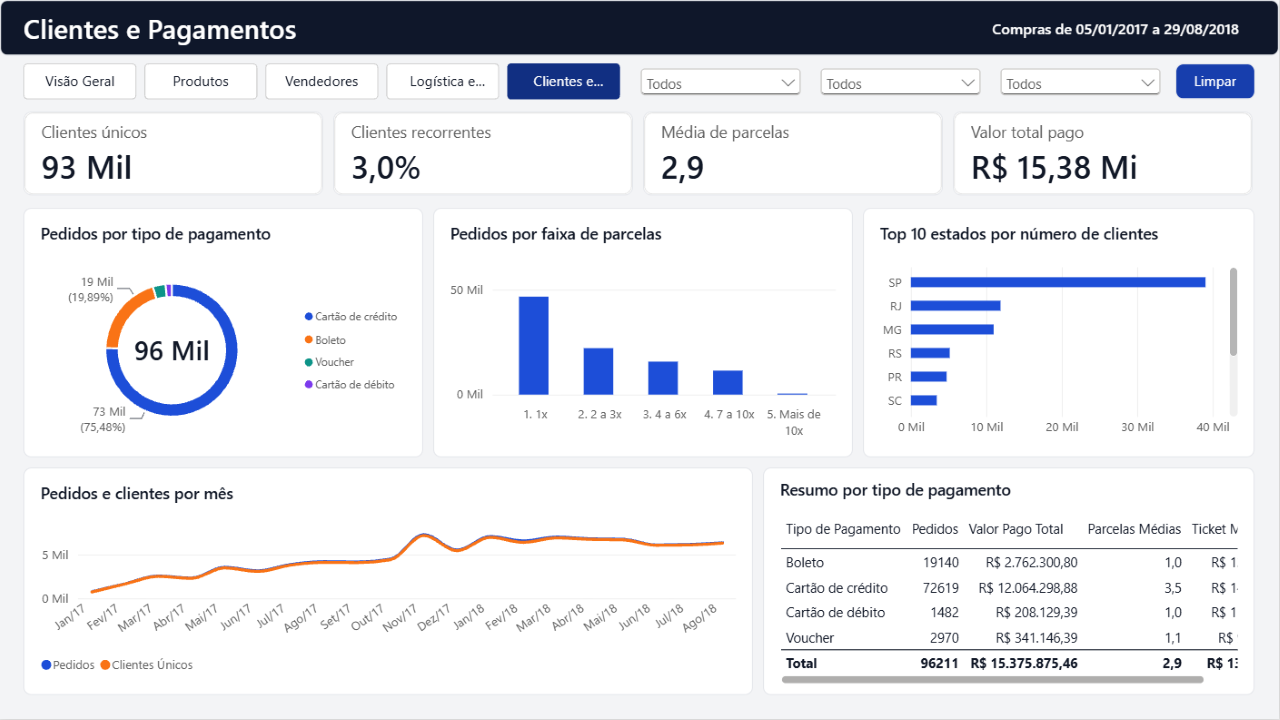

The page's visual inventory and layout, read from the dashboard file:
{"tool":"powerbi","page":{"name":"Clientes e Pagamentos","canvas":[1280,720],"ordinal":4},"visuals":[{"type":"shape","box":[0,0,1280,56],"z":0},{"type":"cardVisual","fields":{"Data":["_Medidas.Clientes Únicos"]},"box":[24,112,300,84],"z":1000},{"type":"cardVisual","fields":{"Data":["_Medidas.% Clientes Recorrentes"]},"box":[334,112,300,84],"z":2000},{"type":"cardVisual","fields":{"Data":["_Medidas.Parcelas Médias"]},"box":[644,112,300,84],"z":3000},{"type":"cardVisual","fields":{"Data":["_Medidas.Valor Pago Total"]},"box":[954,112,300,84],"z":4000},{"type":"donutChart","title":"Pedidos por tipo de pagamento","fields":{"Category":["Fato_Pedidos.Tipo de Pagamento"],"Y":["_Medidas.Pedidos"]},"box":[24,208,400,250],"z":5000},{"type":"clusteredColumnChart","title":"Pedidos por faixa de parcelas","fields":{"Category":["Fato_Pedidos.Faixa de Parcelas"],"Y":["_Medidas.Pedidos"]},"box":[434,208,420,250],"z":6000},{"type":"clusteredBarChart","title":"Top 10 estados por número de clientes","fields":{"Category":["Dim_Cliente.UF"],"Y":["_Medidas.Clientes Únicos"]},"box":[864,208,392,250],"z":7000},{"type":"lineChart","title":"Pedidos e clientes por mês","fields":{"Category":["Dim_Calendario.Mês/Ano"],"Y":["_Medidas.Pedidos","_Medidas.Clientes Únicos"]},"box":[24,468,730,228],"z":8000},{"type":"tableEx","title":"Resumo por tipo de pagamento","fields":{"Values":["Fato_Pedidos.Tipo de Pagamento","_Medidas.Pedidos","_Medidas.Valor Pago Total","_Medidas.Parcelas Médias","_Medidas.Ticket Médio"]},"box":[764,468,492,228],"z":9000},{"type":"textbox","box":[24,10,700,36],"z":10000},{"type":"cardVisual","fields":{"Data":["_Medidas.Período de Dados"]},"box":[860,16,396,24],"z":11000},{"type":"pageNavigator","box":[24,64,600,36],"z":12000},{"type":"slicer","title":"Ano","fields":{"Values":["Dim_Calendario.Ano"]},"box":[636,64,170,36],"z":13000},{"type":"slicer","fields":{"Values":["Dim_Cliente.Região"]},"box":[816,64,170,36],"z":14000},{"type":"slicer","fields":{"Values":["Dim_Cliente.UF"]},"box":[996,64,170,36],"z":15000},{"type":"actionButton","box":[1176,64,80,36],"z":16000}]}

Visuals, with their boxes in screenshot pixels (x1, y1, x2, y2), scaled from the page's 1280x720 canvas onto the 1280x720 screenshot:
shape: locate(0, 0, 1279, 56)
cardVisual - _Medidas.Clientes Únicos: locate(24, 112, 324, 196)
cardVisual - _Medidas.% Clientes Recorrentes: locate(334, 112, 634, 196)
cardVisual - _Medidas.Parcelas Médias: locate(644, 112, 944, 196)
cardVisual - _Medidas.Valor Pago Total: locate(954, 112, 1254, 196)
"Pedidos por tipo de pagamento" donutChart: locate(24, 208, 424, 458)
"Pedidos por faixa de parcelas" clusteredColumnChart: locate(434, 208, 854, 458)
"Top 10 estados por número de clientes" clusteredBarChart: locate(864, 208, 1256, 458)
"Pedidos e clientes por mês" lineChart: locate(24, 468, 754, 696)
"Resumo por tipo de pagamento" tableEx: locate(764, 468, 1256, 696)
textbox: locate(24, 10, 724, 46)
cardVisual - _Medidas.Período de Dados: locate(860, 16, 1256, 40)
pageNavigator: locate(24, 64, 624, 100)
"Ano" slicer: locate(636, 64, 806, 100)
slicer - Dim_Cliente.Região: locate(816, 64, 986, 100)
slicer - Dim_Cliente.UF: locate(996, 64, 1166, 100)
actionButton: locate(1176, 64, 1256, 100)
